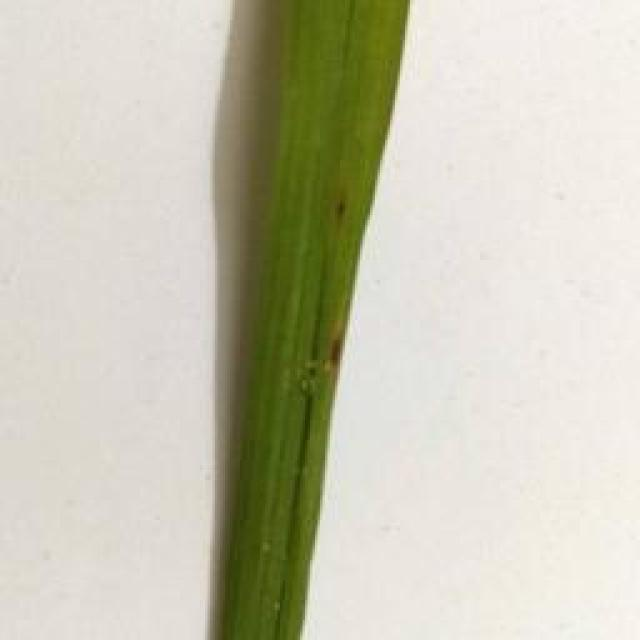Brown_Spot: (320, 321, 354, 373), (328, 186, 359, 229)
